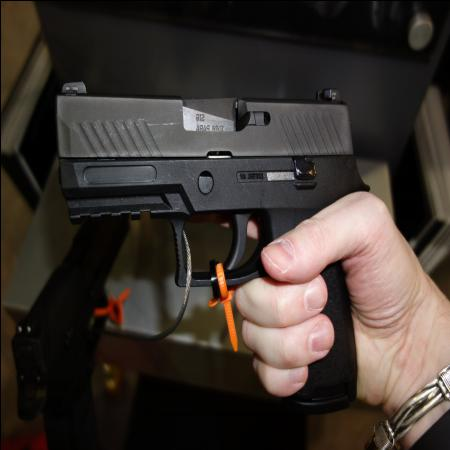Pistol: (52, 76, 370, 414)
